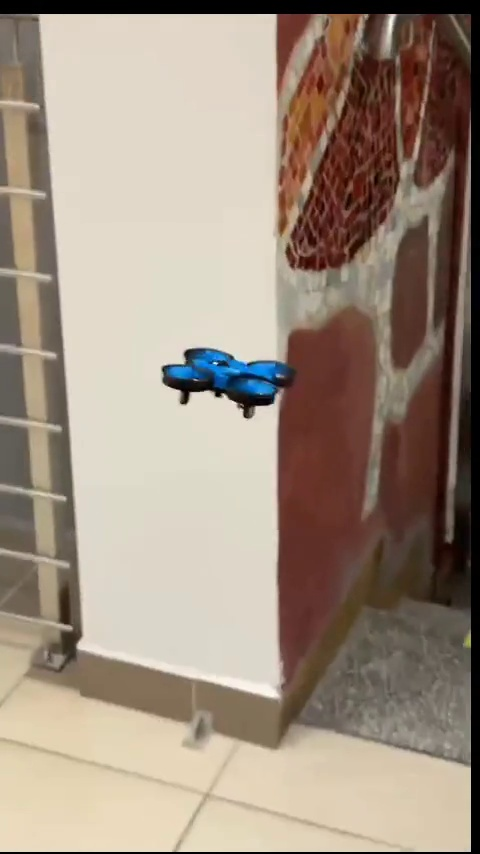drone: (158, 345, 294, 420)
